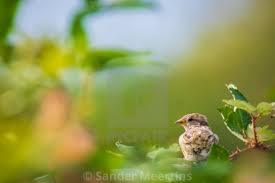hsparrow: (173, 110, 222, 169)
